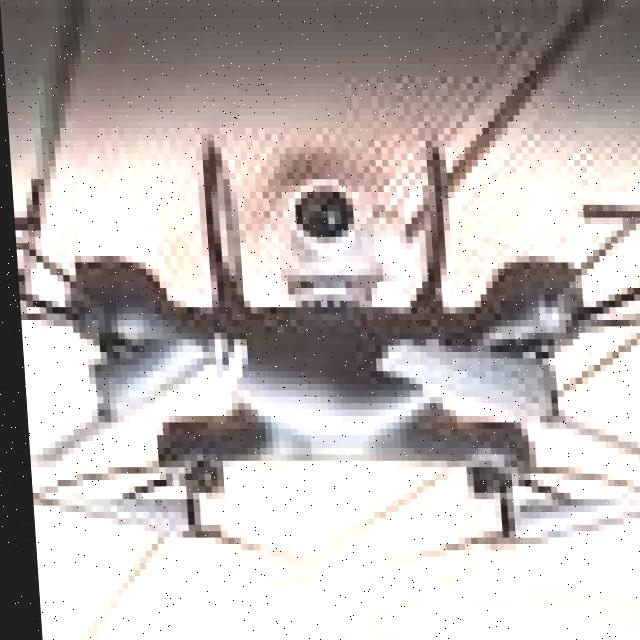drone: (6, 112, 640, 576)
